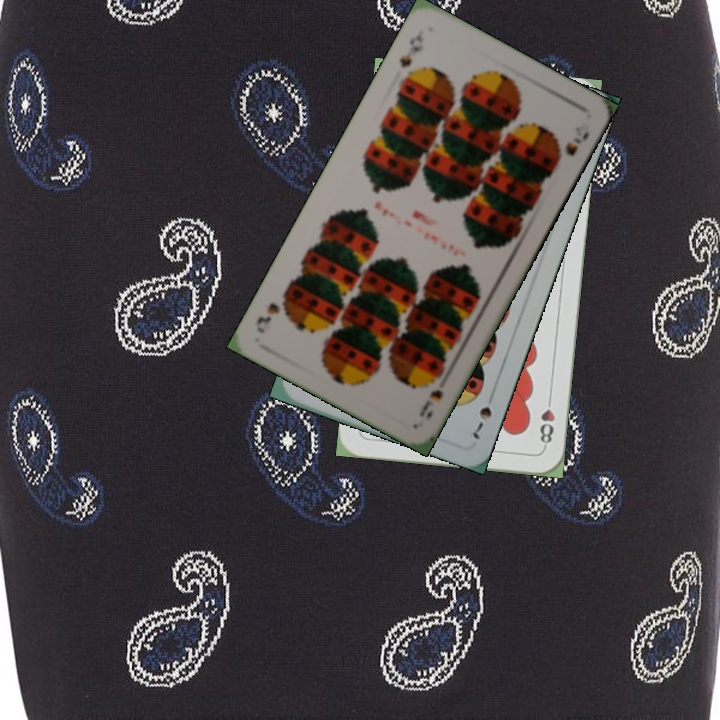H8: (535, 391, 557, 450)
S7: (468, 402, 495, 442)
S9: (395, 26, 427, 71), (415, 385, 446, 423)
